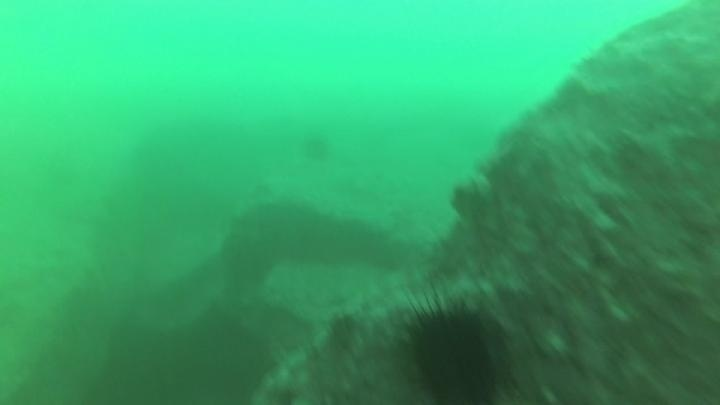echinus: (398, 296, 507, 405), (447, 182, 488, 224), (298, 130, 334, 164)
